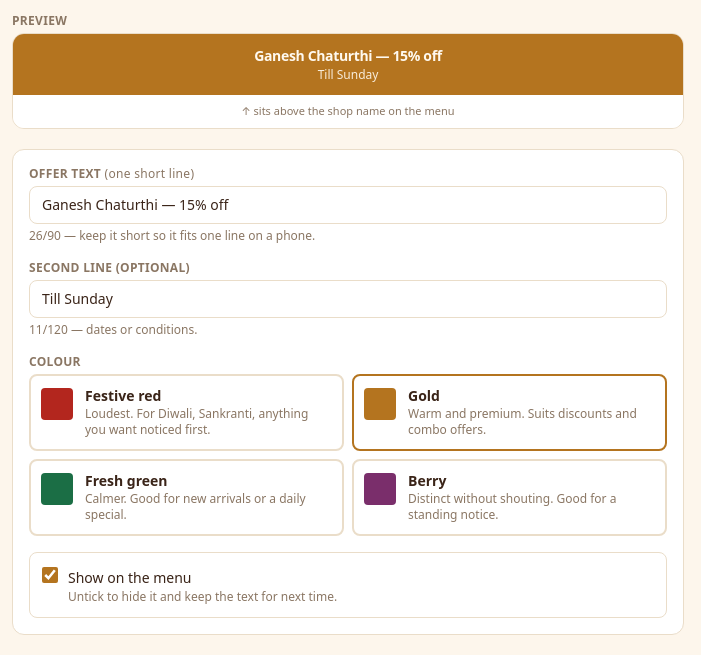
Test: the preview › warns that a written offer is not actually showing
Expected: the text "hidden — customers will not see" is not shown
Click the checkbox labelled "Show on the menu": [50, 575] box [42, 567, 58, 583]
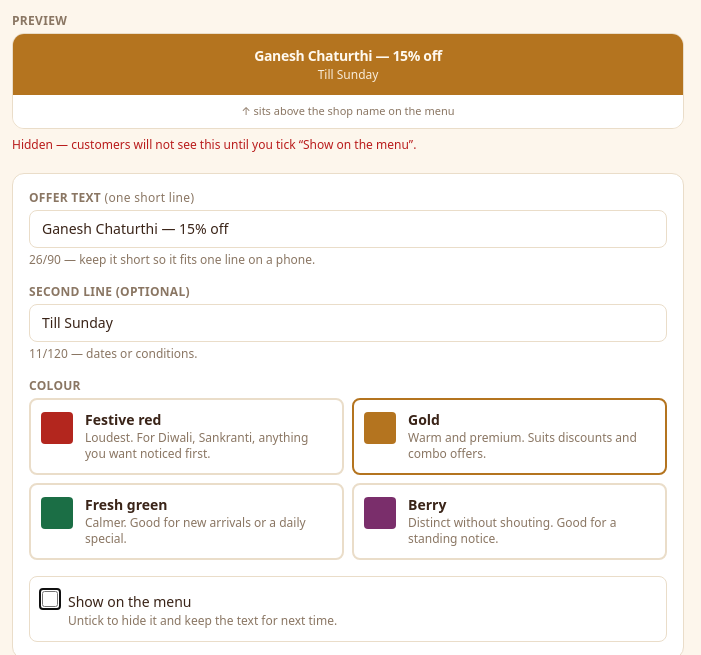
Result: the text "Hidden — customers will not see" is shown at [12, 136, 416, 153]
